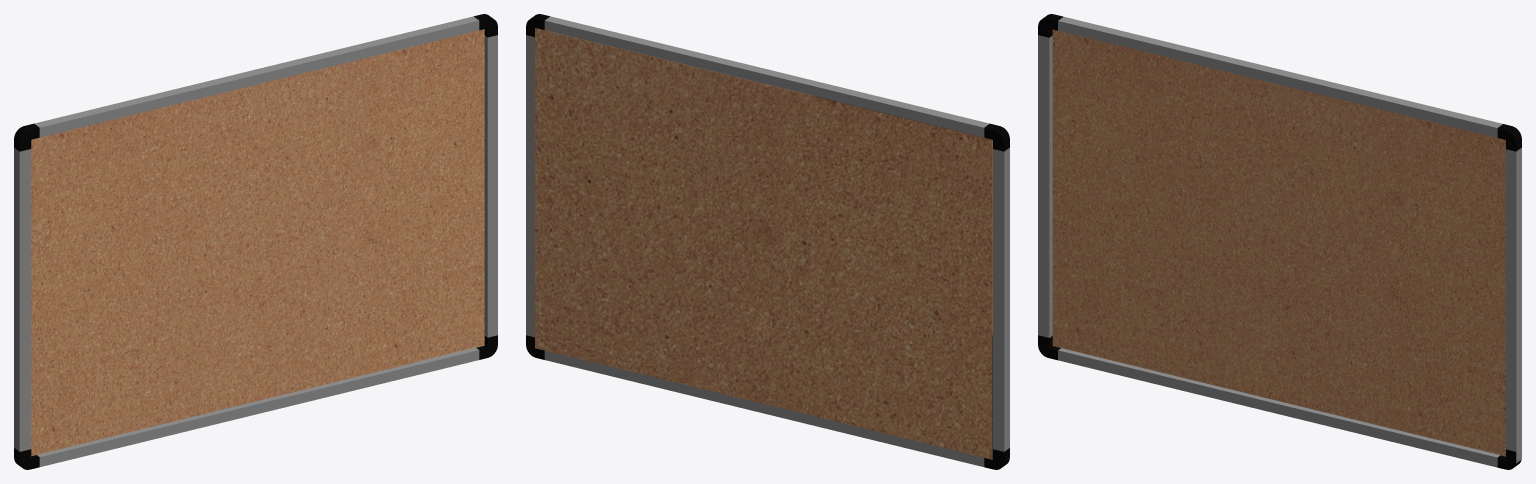
File: Cork board.FBX
The picture shows the model from 3 angles, left to right: view 1: azimuth 30°, elevation 25°; view 2: azimuth 150°, elevation 25°; view 3: azimuth 330°, elevation 25°; orthographic projection.
Visible parts, largest first — view 1: cork board; view 2: cork board; view 3: cork board.
Boxes of the visible parts, box(x1,y1,x2,y2) form: cork board: box(14, 14, 497, 469); cork board: box(526, 14, 1009, 469); cork board: box(1038, 14, 1521, 469).
Size of the model in its own units: 90.48 by 61.39 by 1.93.
2 materials, 1 textured.
